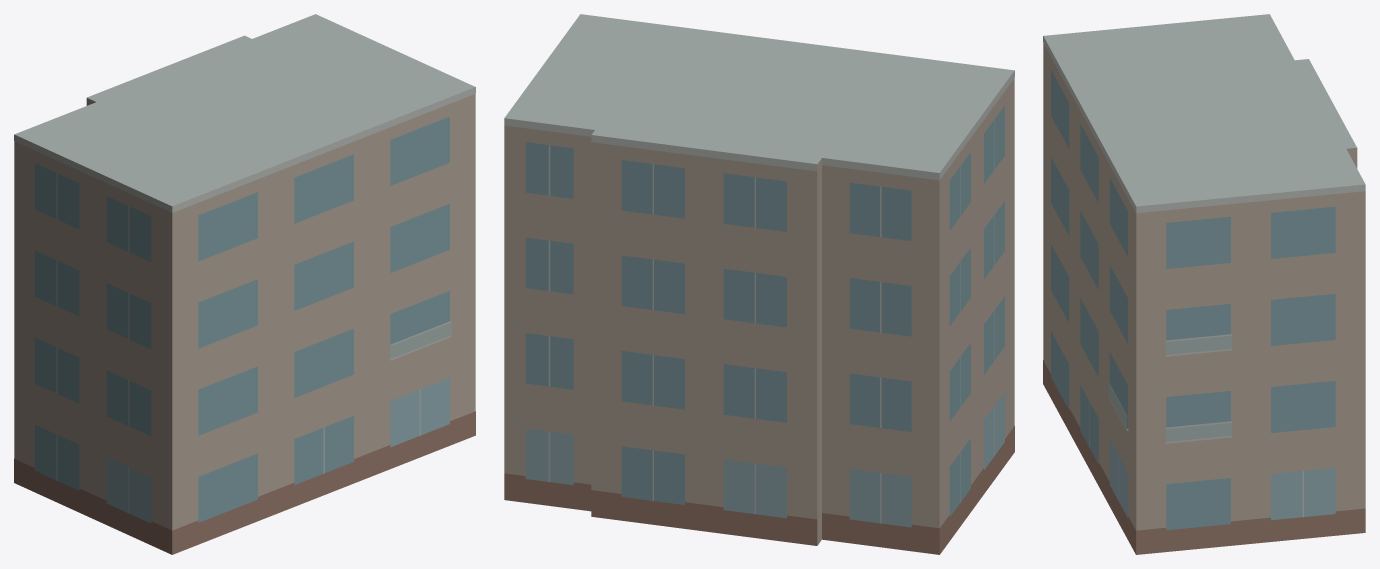
File: survey-upis-32929943.glb
3 renders of one model, left to right at view 1: azimuth 30°, elevation 25°; view 2: azimuth 150°, elevation 25°; view 3: azimuth 270°, elevation 25°, orthographic. The views are drawn at different scales.
Parts seen in each view (by area): view 1: survey-upis-32929943.tmp; view 2: survey-upis-32929943.tmp; view 3: survey-upis-32929943.tmp.
Boxes of the visible parts, x1,y1,x2,y2 form: survey-upis-32929943.tmp: [14, 14, 475, 554]; survey-upis-32929943.tmp: [504, 14, 1014, 554]; survey-upis-32929943.tmp: [1043, 14, 1365, 554].
Bounding box in the file's own units: 15.18 × 12.8 × 10.75.
